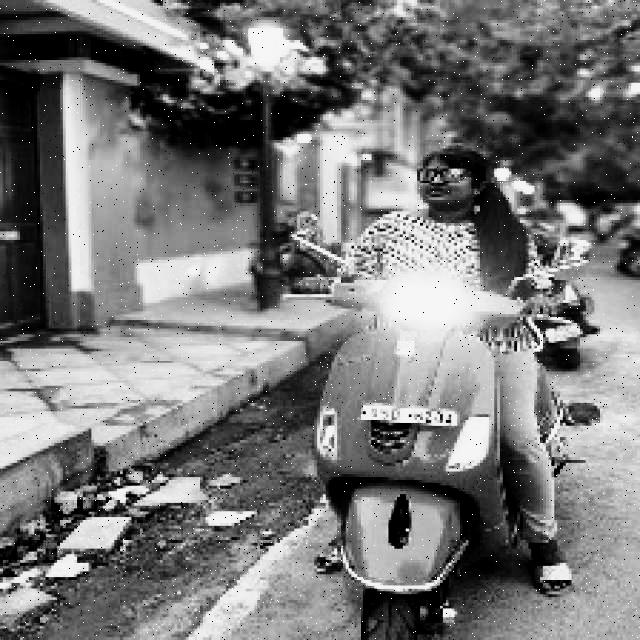Bike: (322, 276, 580, 638)
